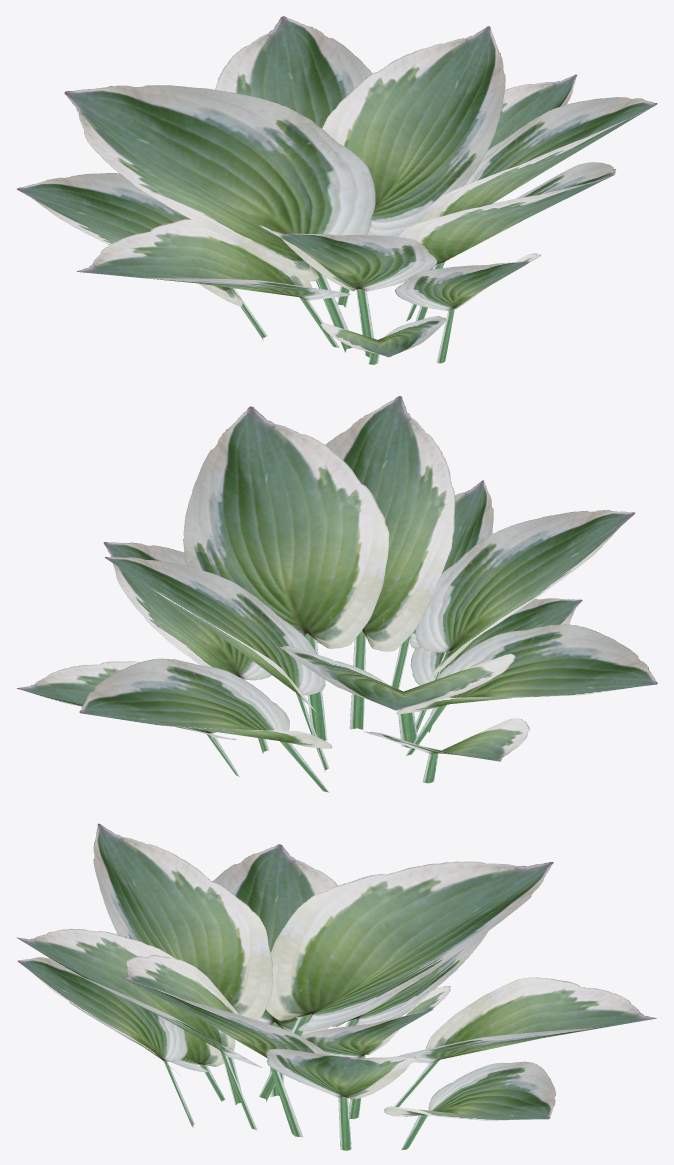
The model's file is plant_small_wg_04N.fbx.
The picture shows the model from 3 angles, top to bottom: view 1: azimuth 30°, elevation 25°; view 2: azimuth 150°, elevation 25°; view 3: azimuth 270°, elevation 25°; orthographic projection. The views are drawn at different scales.
Parts seen in each view (by area): view 1: plant_small_wg_04N; view 2: plant_small_wg_04N; view 3: plant_small_wg_04N.
Boxes of the visible parts, bbox=[...] form: plant_small_wg_04N: bbox=[17, 16, 657, 364]; plant_small_wg_04N: bbox=[17, 396, 657, 792]; plant_small_wg_04N: bbox=[17, 823, 656, 1150].
Size of the model in its own units: 133 by 56.93 by 142.
